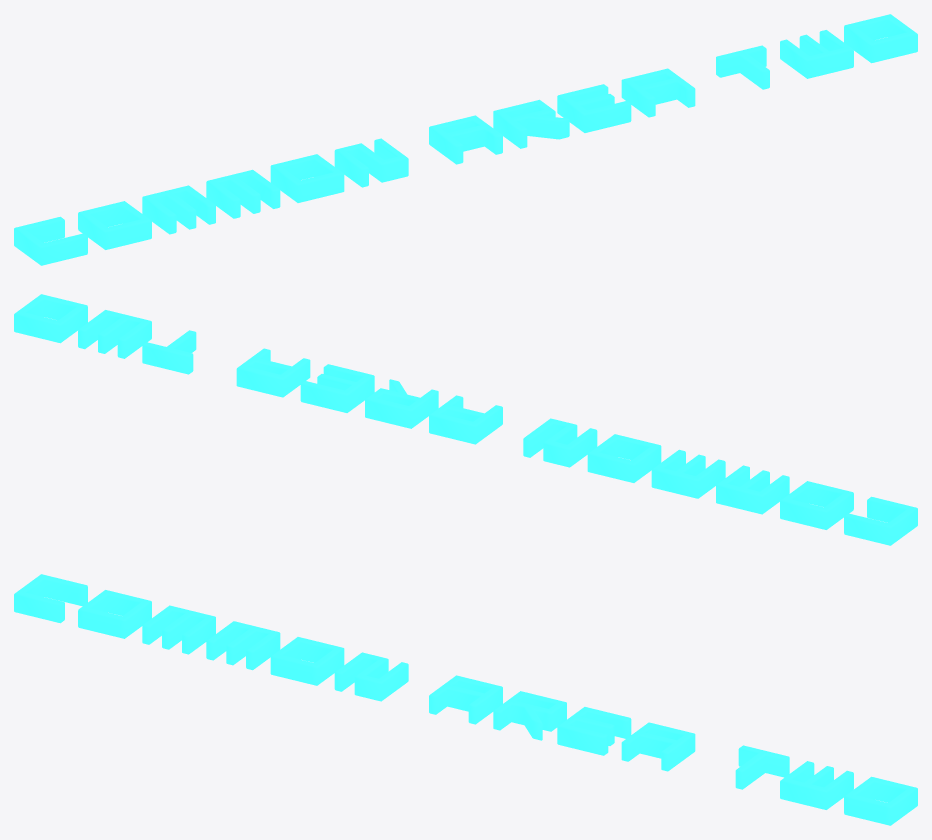
Rendered from FACILITY_COMMON2Label.fbx.
3 renders of one model, top to bottom at view 1: azimuth 30°, elevation 25°; view 2: azimuth 150°, elevation 25°; view 3: azimuth 330°, elevation 25°, orthographic.
Visible parts, largest first — view 1: LAB-LABEL.006; view 2: LAB-LABEL.006; view 3: LAB-LABEL.006.
Boxes of the visible parts, x1,y1,x2,y2 form: LAB-LABEL.006: (14,14,917,265); LAB-LABEL.006: (14,294,917,545); LAB-LABEL.006: (14,574,917,825).
Bounding box in the file's own units: 1493 × 32 × 79.68.
